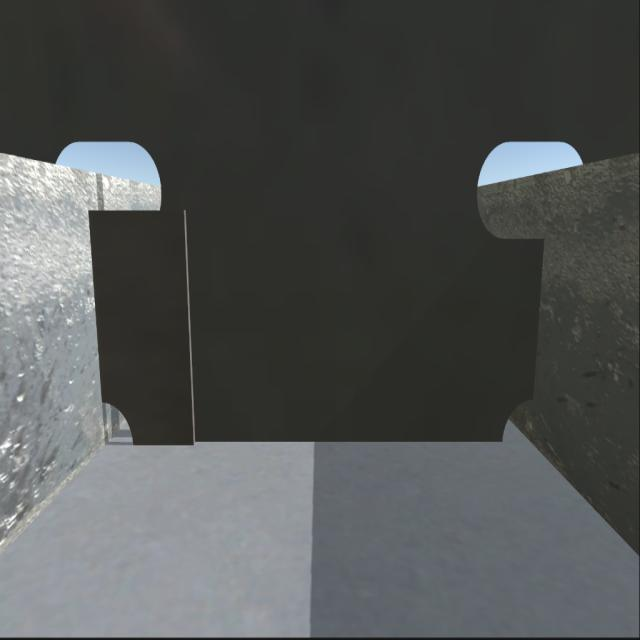fillet_hole: (500, 399, 537, 444), (104, 401, 132, 438)
fillet_yong_jeop_jang: (139, 439, 497, 449)
longi_yong_jeop_jang: (524, 241, 542, 396), (96, 216, 104, 405)
plate_CP01: (94, 209, 190, 448)
